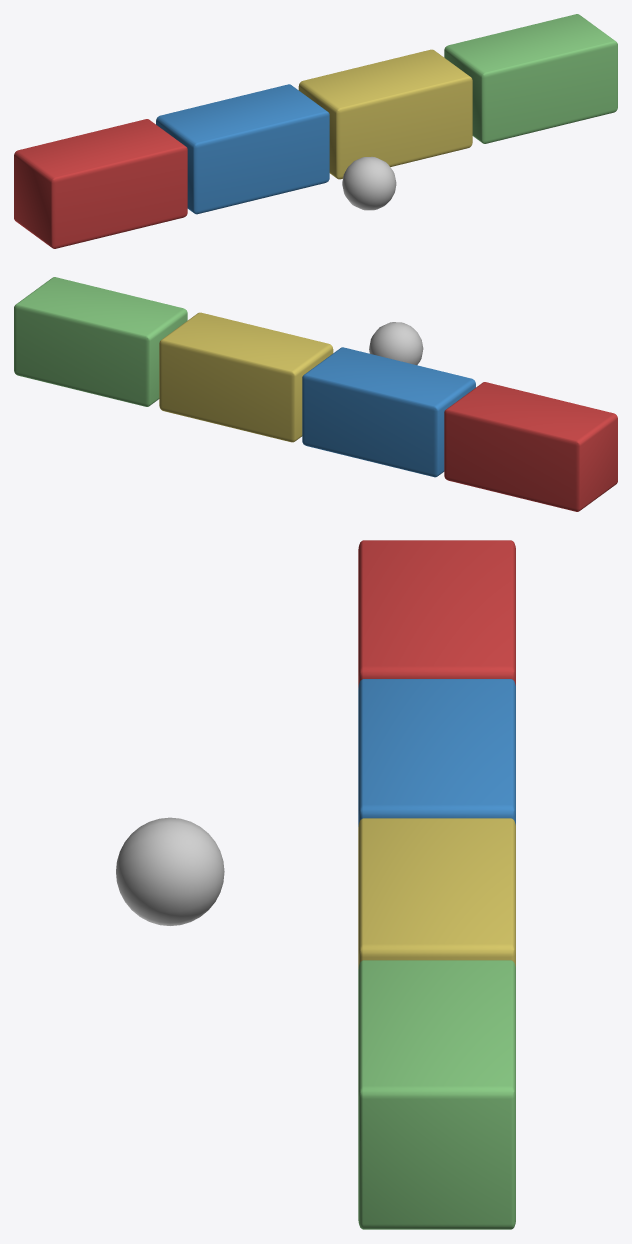
The model's file is Breakout.fbx.
3 renders of one model, top to bottom at view 1: azimuth 30°, elevation 25°; view 2: azimuth 150°, elevation 25°; view 3: azimuth 270°, elevation 25°, orthographic. The views are drawn at different scales.
Parts seen in each view (by area): view 1: Red, Blue.002, Blue, Blue.001, Ball; view 2: Red, Blue.002, Blue.001, Blue, Ball; view 3: Blue.002, Blue.001, Blue, Red, Ball.
Boxes of the visible parts, bbox=[...] form: Red: bbox=[14, 119, 187, 248]; Blue.002: bbox=[444, 14, 617, 143]; Blue: bbox=[156, 84, 329, 214]; Blue.001: bbox=[298, 49, 472, 179]; Ball: bbox=[342, 156, 396, 210]; Red: bbox=[444, 382, 617, 511]; Blue.002: bbox=[14, 277, 187, 406]; Blue.001: bbox=[159, 312, 333, 442]; Blue: bbox=[302, 347, 475, 477]; Ball: bbox=[369, 322, 423, 364]; Blue.002: bbox=[358, 960, 515, 1229]; Blue.001: bbox=[358, 818, 515, 968]; Blue: bbox=[358, 679, 515, 826]; Red: bbox=[358, 540, 515, 687]; Ball: bbox=[116, 817, 224, 925].
Bounding box in the file's own units: 8.3 × 1 × 2.54.
